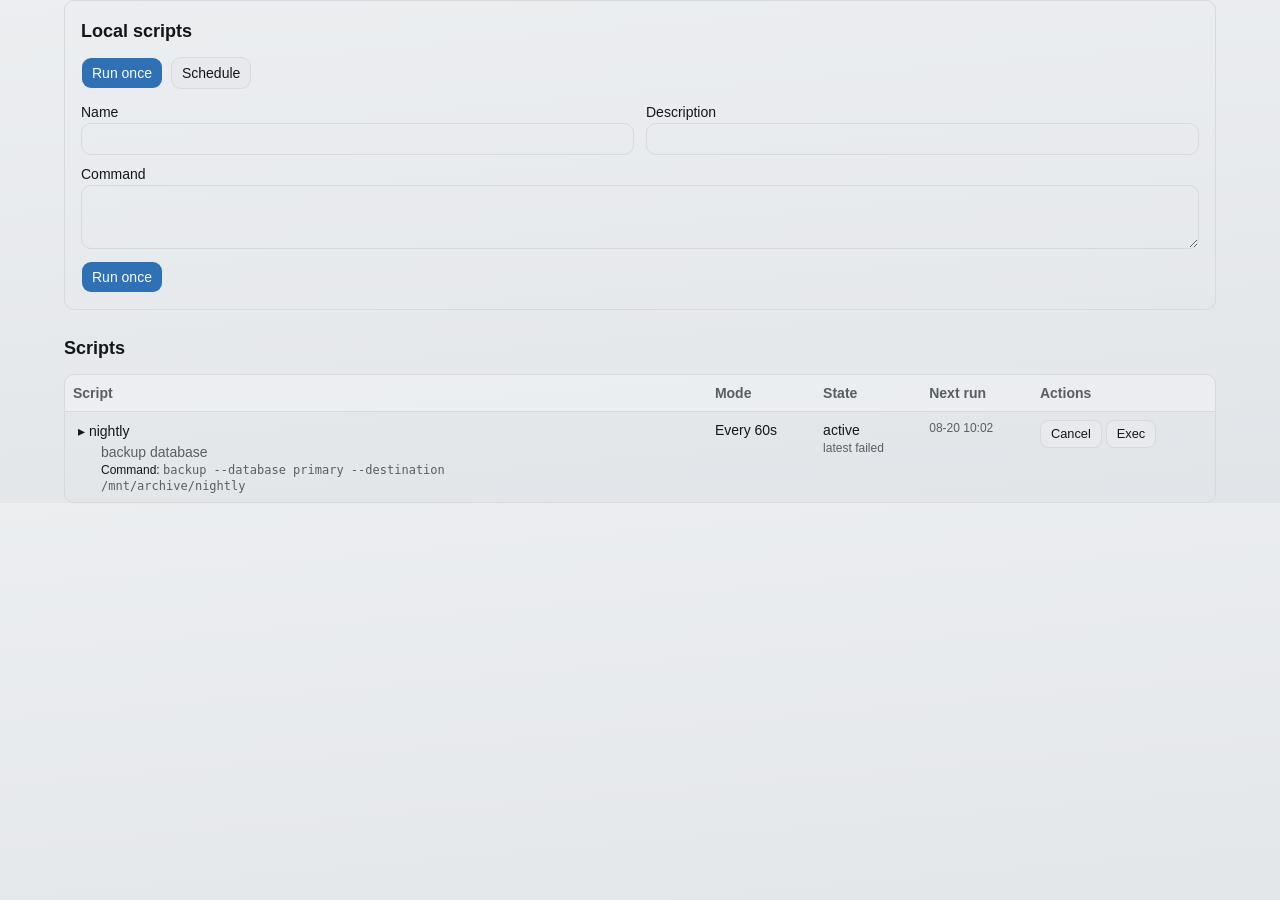
lazy-loads runs and expands run metadata and log inline
The width and height of the screenshot is (1280, 900).
Click the button "▸ nightly": x=104, y=431 [73, 420, 134, 442]
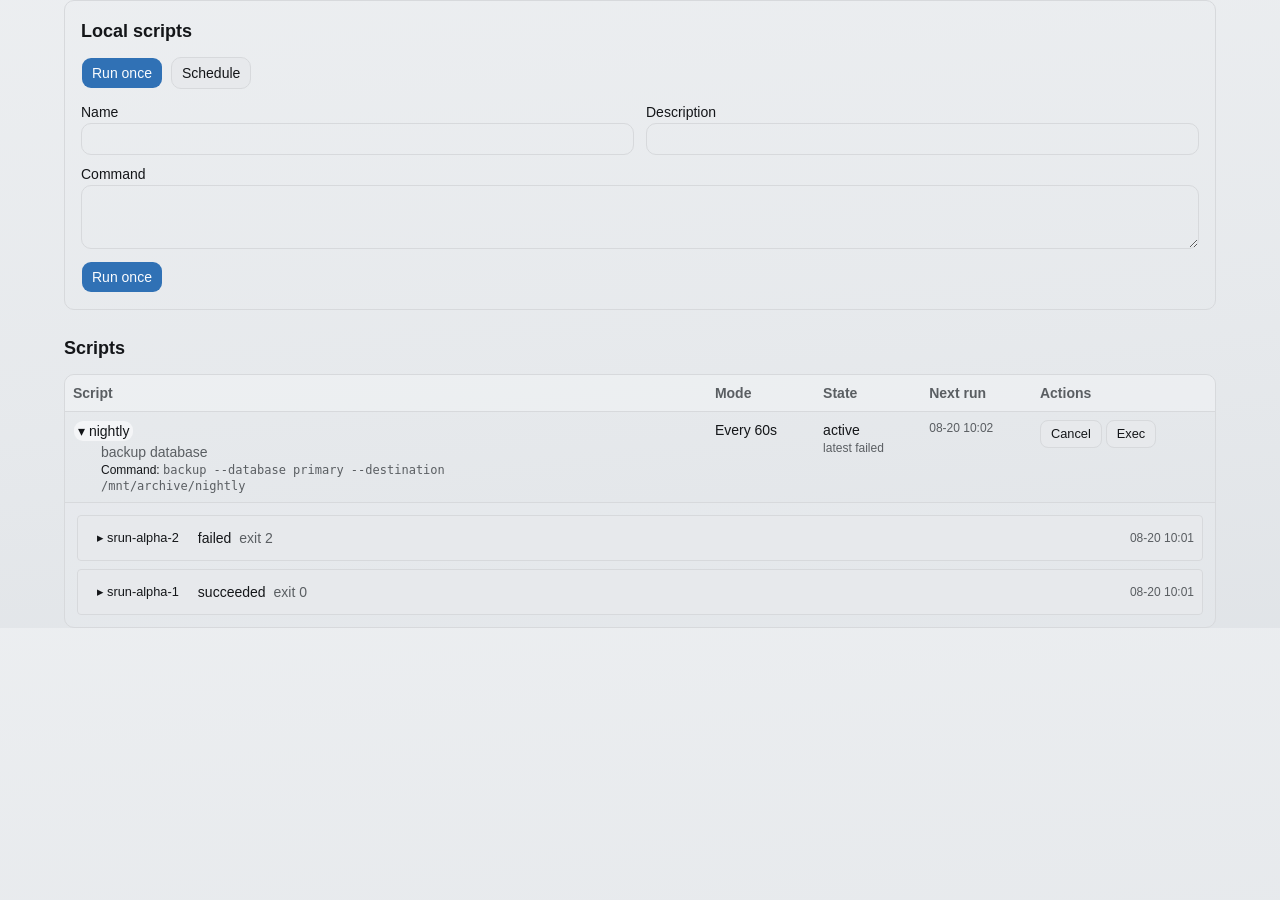
Expected: the button "▸ srun-alpha-2" is shown
Click the button "▸ srun-alpha-2": x=138, y=538 [86, 524, 190, 552]
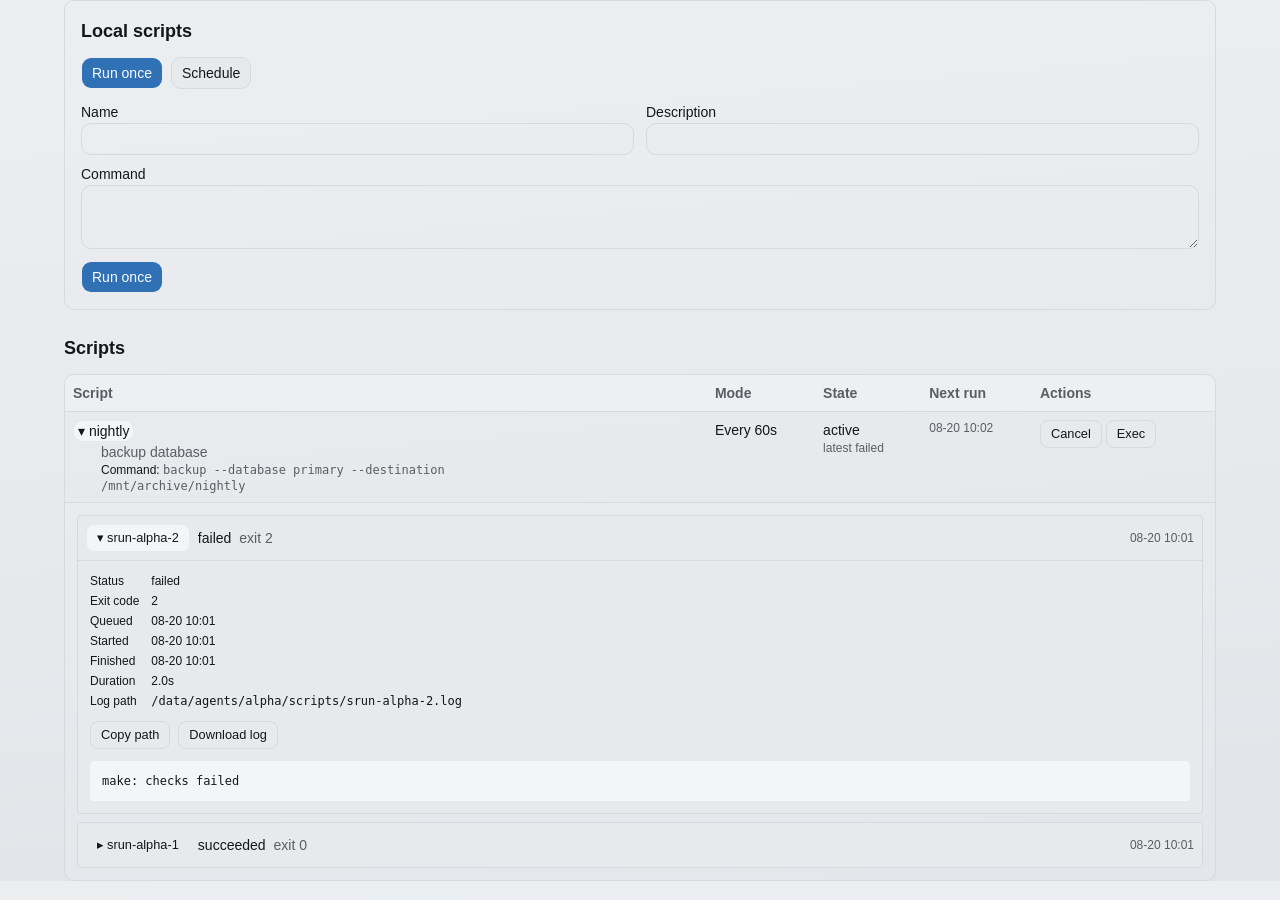
Expected: the text "make: checks failed" is shown, [90, 761, 1190, 801]
Expected: the text "/data/agents/alpha/scripts/srun-alpha-2.log" is shown, [151, 694, 462, 708]
